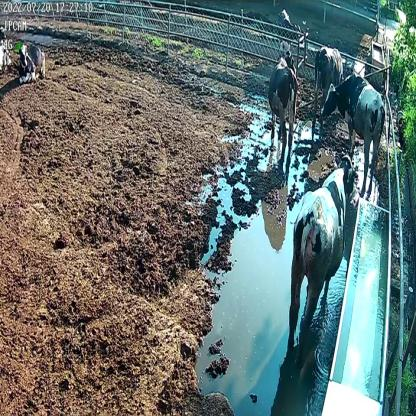cow: (288, 152, 360, 344), (321, 75, 386, 195), (269, 47, 298, 156), (312, 46, 344, 122), (18, 37, 46, 84)
